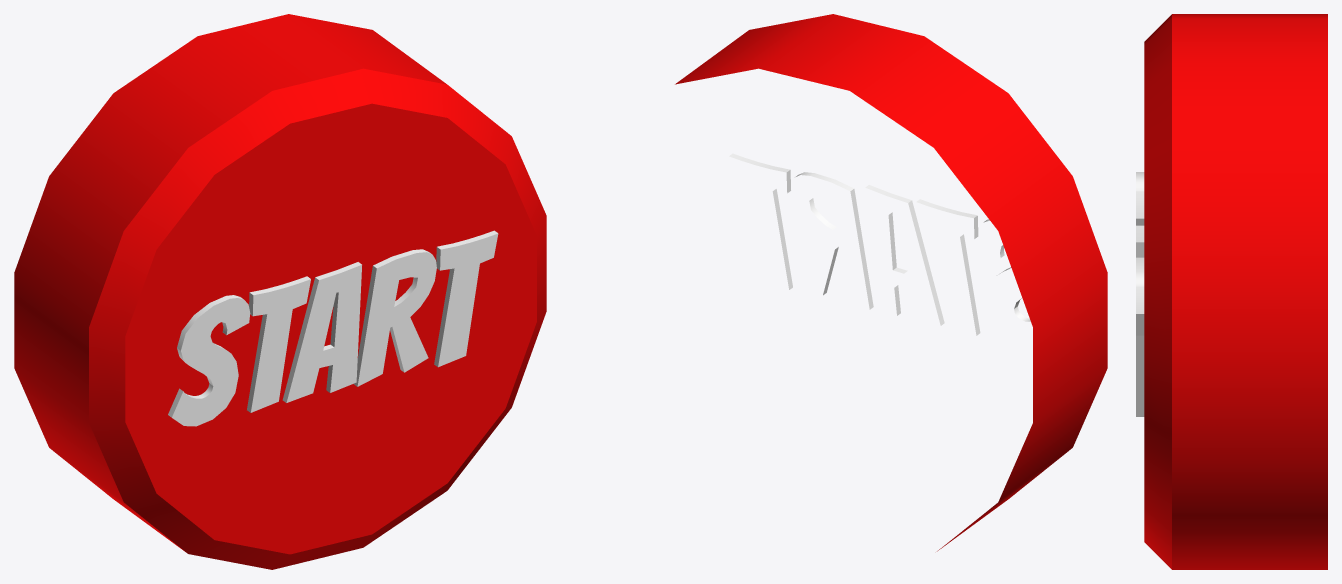
The model's file is start-button.glb.
The picture shows the model from 3 angles, left to right: view 1: azimuth 30°, elevation 25°; view 2: azimuth 150°, elevation 25°; view 3: azimuth 270°, elevation 25°; orthographic projection. The views are drawn at different scales.
Parts seen in each view (by area): view 1: startButton, startText; view 2: startButton, startText; view 3: startButton, startText.
Part boxes in pixels (x1=…): startButton: x1=14, y1=14, x2=546, y2=569; startText: x1=168, y1=230, x2=498, y2=426; startButton: x1=675, y1=14, x2=1107, y2=551; startText: x1=729, y1=153, x2=1030, y2=335; startButton: x1=1144, y1=14, x2=1327, y2=569; startText: x1=1136, y1=172, x2=1144, y2=416.
Size of the model in its own units: 0.5768 by 0.5768 by 0.2007.
